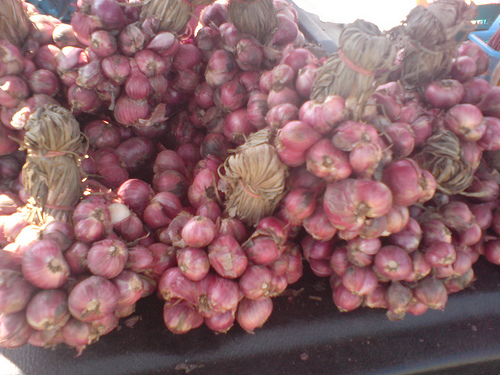onion: (16, 237, 71, 290), (68, 275, 120, 322), (304, 138, 352, 182), (276, 120, 323, 164), (339, 266, 378, 295)
